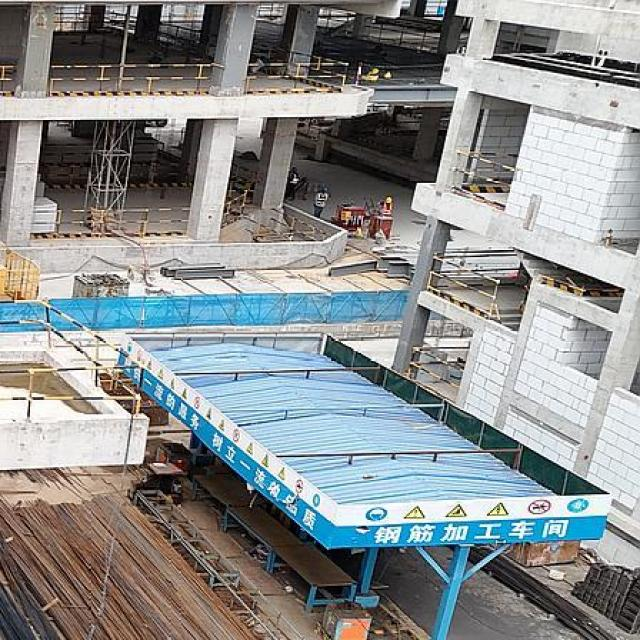edge_guardrail: (0, 298, 144, 417), (426, 248, 514, 316), (48, 64, 212, 94), (33, 206, 190, 234), (246, 48, 350, 88), (409, 346, 470, 389), (366, 20, 440, 50), (455, 151, 518, 186), (160, 24, 200, 47), (318, 15, 355, 35), (55, 12, 88, 32), (225, 192, 246, 215), (0, 64, 14, 91), (258, 6, 285, 16), (426, 1, 446, 13), (111, 12, 136, 18)
